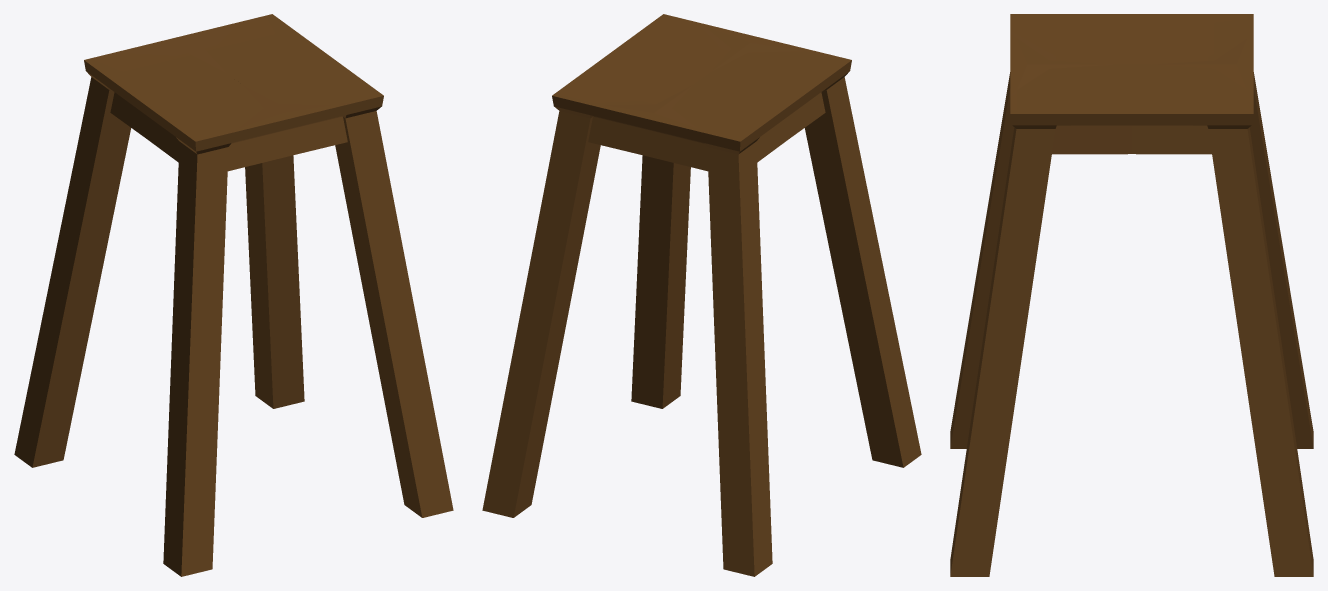
The model's file is Stool.fbx.
The picture shows the model from 3 angles, left to right: view 1: azimuth 30°, elevation 25°; view 2: azimuth 150°, elevation 25°; view 3: azimuth 270°, elevation 25°; orthographic projection. The views are drawn at different scales.
Parts seen in each view (by area): view 1: Cube; view 2: Cube; view 3: Cube.
Part boxes in pixels (<box>): Cube: <box>14,14,453,576</box>; Cube: <box>482,14,921,576</box>; Cube: <box>950,14,1313,576</box>.
Size of the model in its own units: 293 by 416 by 311.
